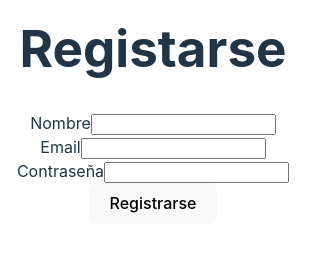
Test: UserRegister › Deberia completar el formulario con error y mostrar el alert
The image size is (320, 253).
In the field labelled "Nombre": (183, 124) left=91, top=114, right=276, bottom=135, type "Gabriel"
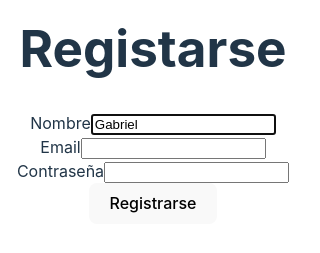
In the field labelled "Email": (173, 148) left=81, top=138, right=266, bottom=159, type "romerogabriel.ad@gmail.com"
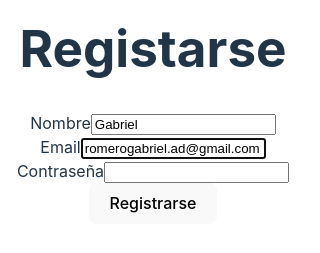
Click the button "Registrarse": (153, 204) left=89, top=183, right=217, bottom=224
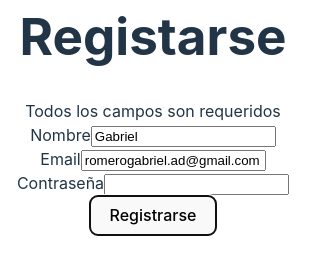
expect the text "Todos los campos son requeridos" is shown: met, box left=17, top=99, right=289, bottom=123
